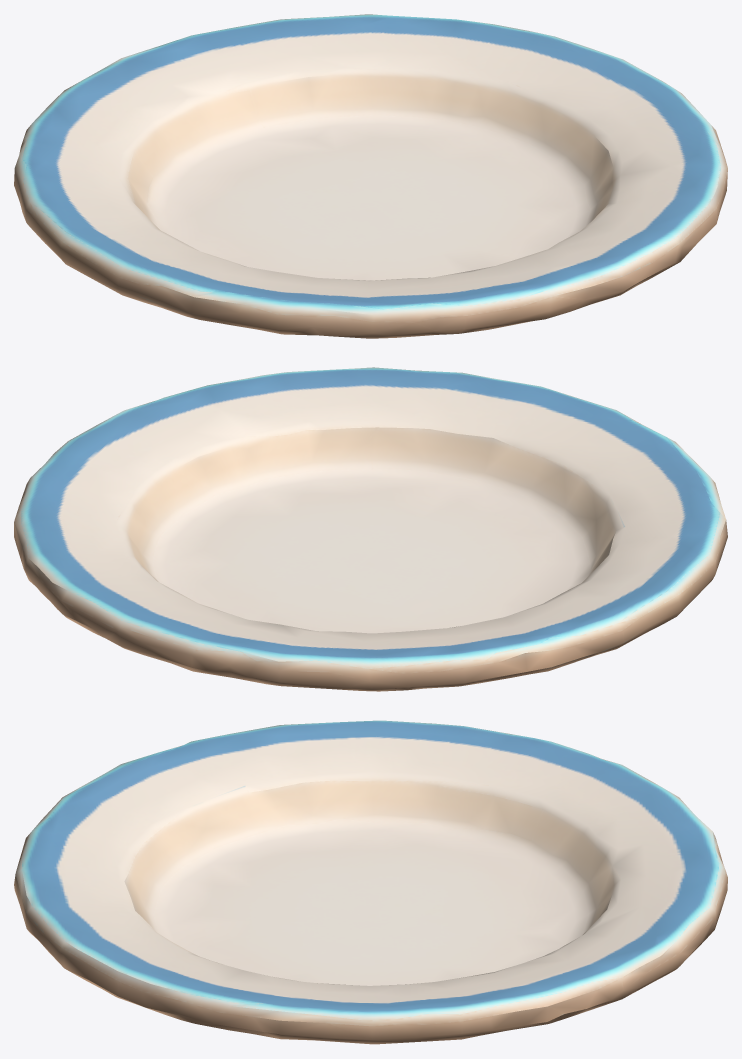
File: TT_PlateBlue.glb
3 renders of one model, top to bottom at view 1: azimuth 30°, elevation 25°; view 2: azimuth 150°, elevation 25°; view 3: azimuth 270°, elevation 25°, orthographic.
Visible parts, largest first — view 1: geometry_0; view 2: geometry_0; view 3: geometry_0.
Boxes of the visible parts, left/top/right/bottom form: geometry_0: left=14, top=14, right=727, bottom=338; geometry_0: left=14, top=367, right=727, bottom=691; geometry_0: left=14, top=720, right=727, bottom=1044.
Size of the model in its own units: 1 by 0.1062 by 0.9998.
Materials: 1 (1 with a texture image).
